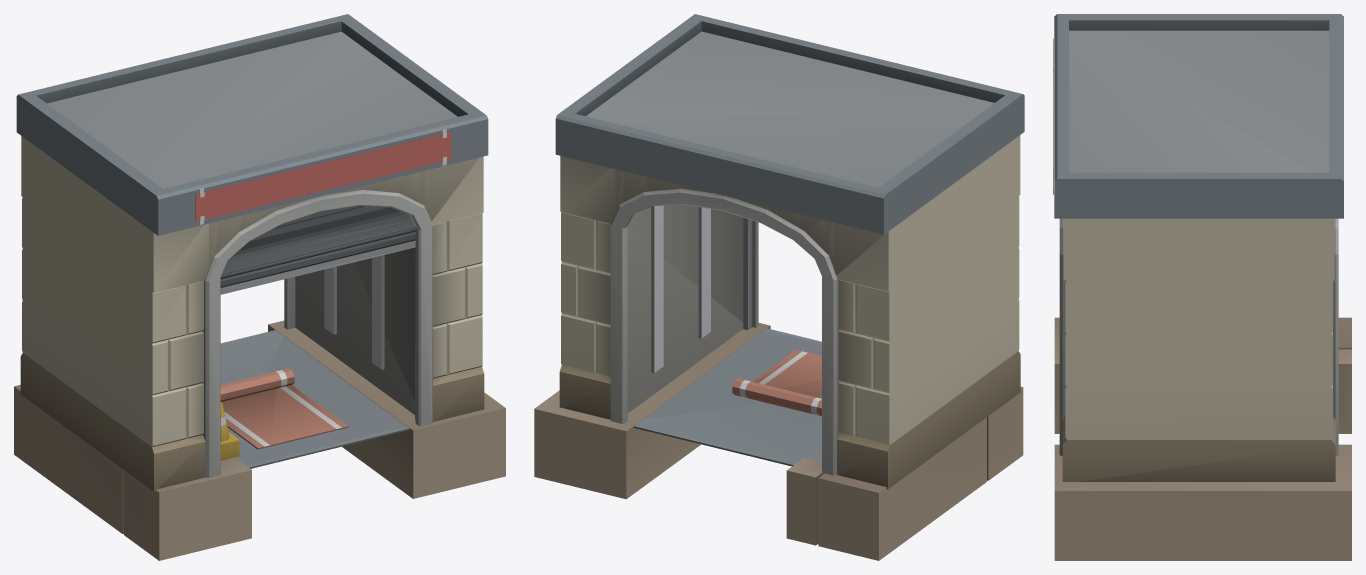
File: tunnel.glb
The picture shows the model from 3 angles, left to right: view 1: azimuth 30°, elevation 25°; view 2: azimuth 150°, elevation 25°; view 3: azimuth 270°, elevation 25°; orthographic projection. The views are drawn at different scales.
Parts seen in each view (by area): view 1: tunnel.001; view 2: tunnel.001; view 3: tunnel.001.
Boxes of the visible parts, x1=… form: tunnel.001: x1=14, y1=14, x2=505, y2=560; tunnel.001: x1=534, y1=14, x2=1024, y2=560; tunnel.001: x1=1053, y1=14, x2=1351, y2=560.
Bounding box in the file's own units: 5.48 × 5.49 × 3.98.
